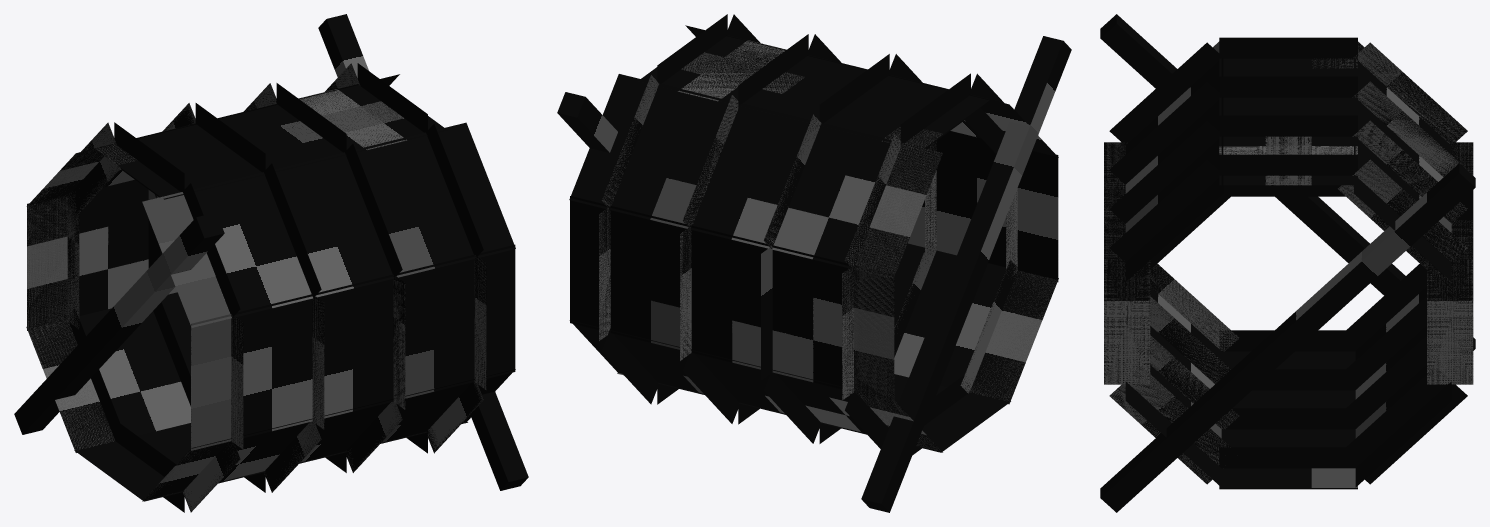
File: barbed_wire.obj
The picture shows the model from 3 angles, left to right: view 1: azimuth 30°, elevation 25°; view 2: azimuth 150°, elevation 25°; view 3: azimuth 270°, elevation 25°; orthographic projection.
Visible parts, largest first — view 1: cube; view 2: cube; view 3: cube.
Part boxes in pixels (bbox=[...]): cube: bbox=[14, 14, 528, 512]; cube: bbox=[557, 14, 1071, 512]; cube: bbox=[1100, 14, 1475, 512].
Size of the model in its own units: 1 by 1.03 by 1.02.
